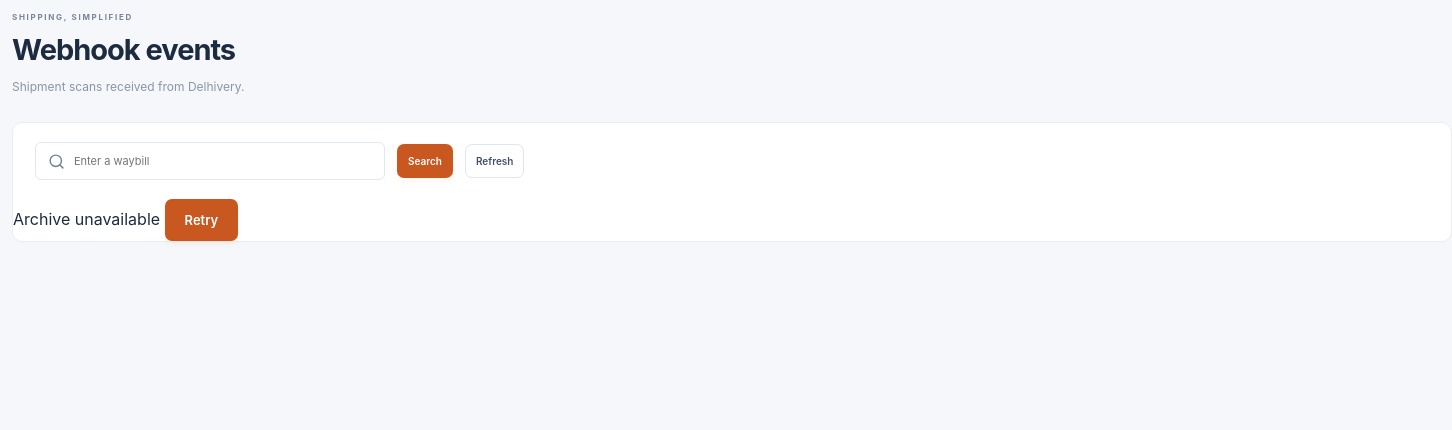
it: distinguishes a fetch failure from an empty archive after retry
Expected: the message shows "Archive unavailable", x1=13 y1=210 x2=160 y2=230
Click the button "Retry" at (201,220), box x1=165 y1=200 x2=238 y2=242
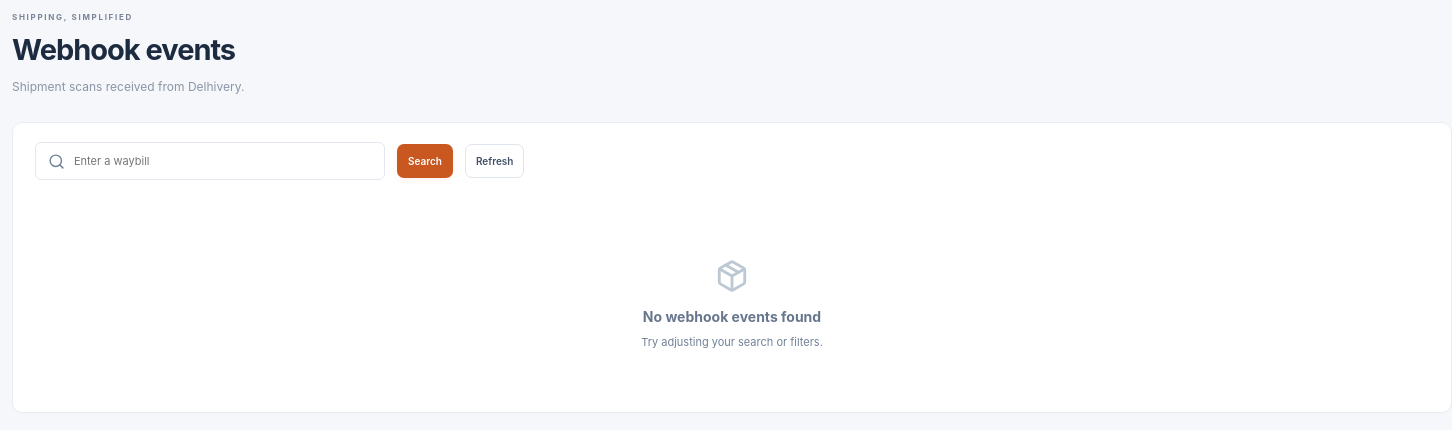
Expected: the heading "No webhook events found" is shown, x1=643 y1=308 x2=821 y2=326
